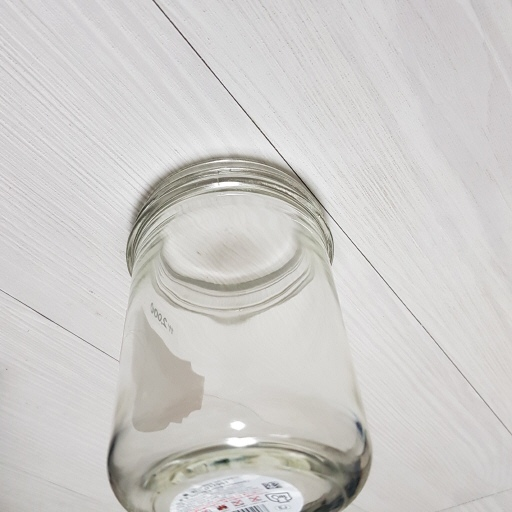Glass_5: (97, 160, 374, 512)
